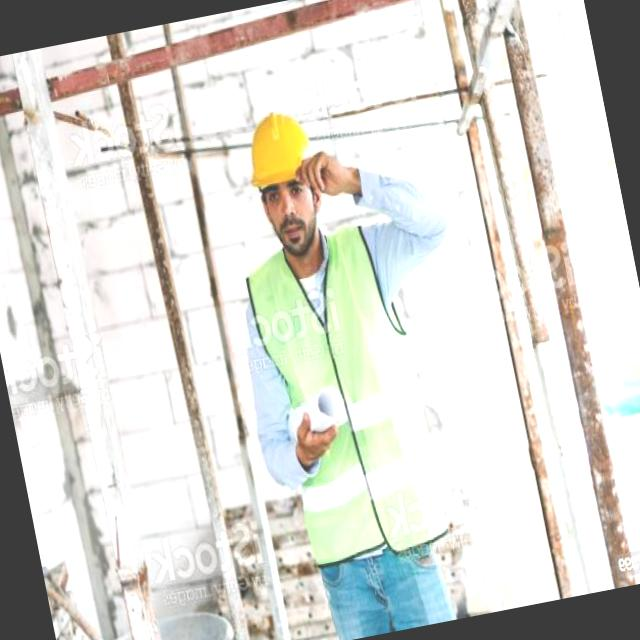helmet: (230, 91, 331, 211)
no-goggles: (255, 172, 317, 210)
vest: (217, 198, 453, 572)
